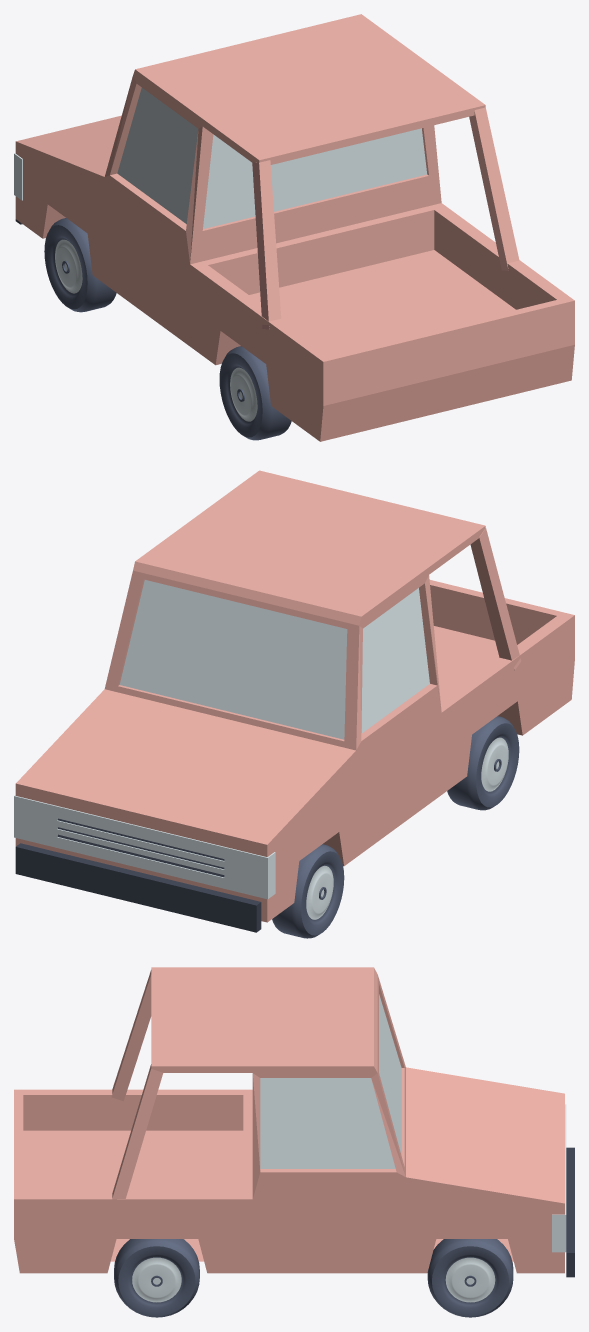
Rendered from car.glb.
3 renders of one model, top to bottom at view 1: azimuth 30°, elevation 25°; view 2: azimuth 150°, elevation 25°; view 3: azimuth 270°, elevation 25°, orthographic. The views are drawn at different scales.
Parts seen in each view (by area): view 1: Cube_2_3, Cylinder_1_2, Cylinder_7, Cube_1_2, Cube_2_2; view 2: Cube_2_3, Cube_3_2, Cube_4, Cylinder_1_2, Cylinder_7, Cube_1_2; view 3: Cube_2_3, Cylinder_5, Cylinder_6, Cube_2_2, Cube_1_2, Cube_4, Cube_3_2.
Part boxes in pixels (<box>): Cube_2_3: <box>15,14,574,441</box>; Cylinder_1_2: <box>219,346,291,440</box>; Cylinder_7: <box>44,218,116,312</box>; Cube_1_2: <box>252,160,281,329</box>; Cube_2_2: <box>469,107,519,270</box>; Cube_2_3: <box>15,470,574,922</box>; Cube_3_2: <box>14,795,275,899</box>; Cube_4: <box>15,843,261,932</box>; Cylinder_1_2: <box>447,716,519,810</box>; Cylinder_7: <box>272,844,344,938</box>; Cube_1_2: <box>470,528,521,670</box>; Cube_2_3: <box>14,967,564,1273</box>; Cylinder_5: <box>114,1239,199,1317</box>; Cylinder_6: <box>427,1239,513,1317</box>; Cube_2_2: <box>112,1064,163,1199</box>; Cube_1_2: <box>111,970,151,1101</box>; Cube_4: <box>566,1147,574,1277</box>; Cube_3_2: <box>552,1104,566,1252</box>.
Bounding box in the file's own units: 1.52 × 1.58 × 3.23.
